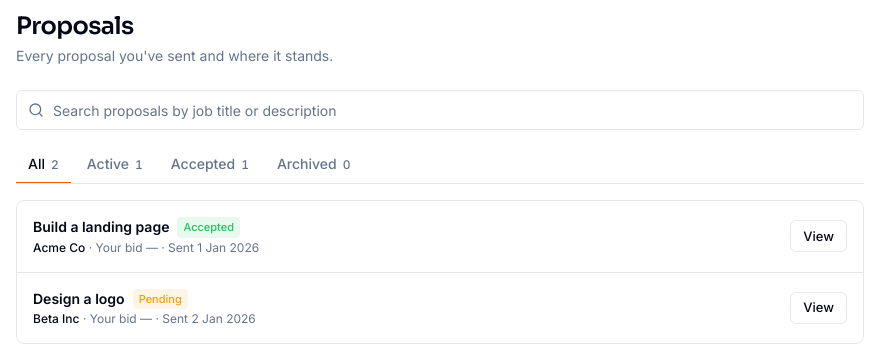
Scenario: Proposals › renders proposals from all fetched pages with their status
Expected: the heading "Build a landing page" is shown, [33, 217, 169, 237]
Expected: the heading "Design a logo" is shown, [33, 289, 125, 309]
// Tabs filter the rows by status.
Click the tab "Accepted1". click: (210, 165)
box: [159, 146, 261, 184]
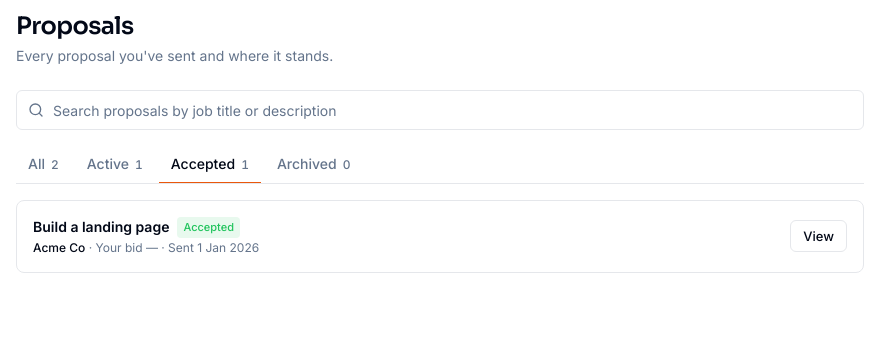
Expected: the heading "Build a landing page" is shown, [33, 217, 169, 237]
Result: the heading "Design a logo" is gone
